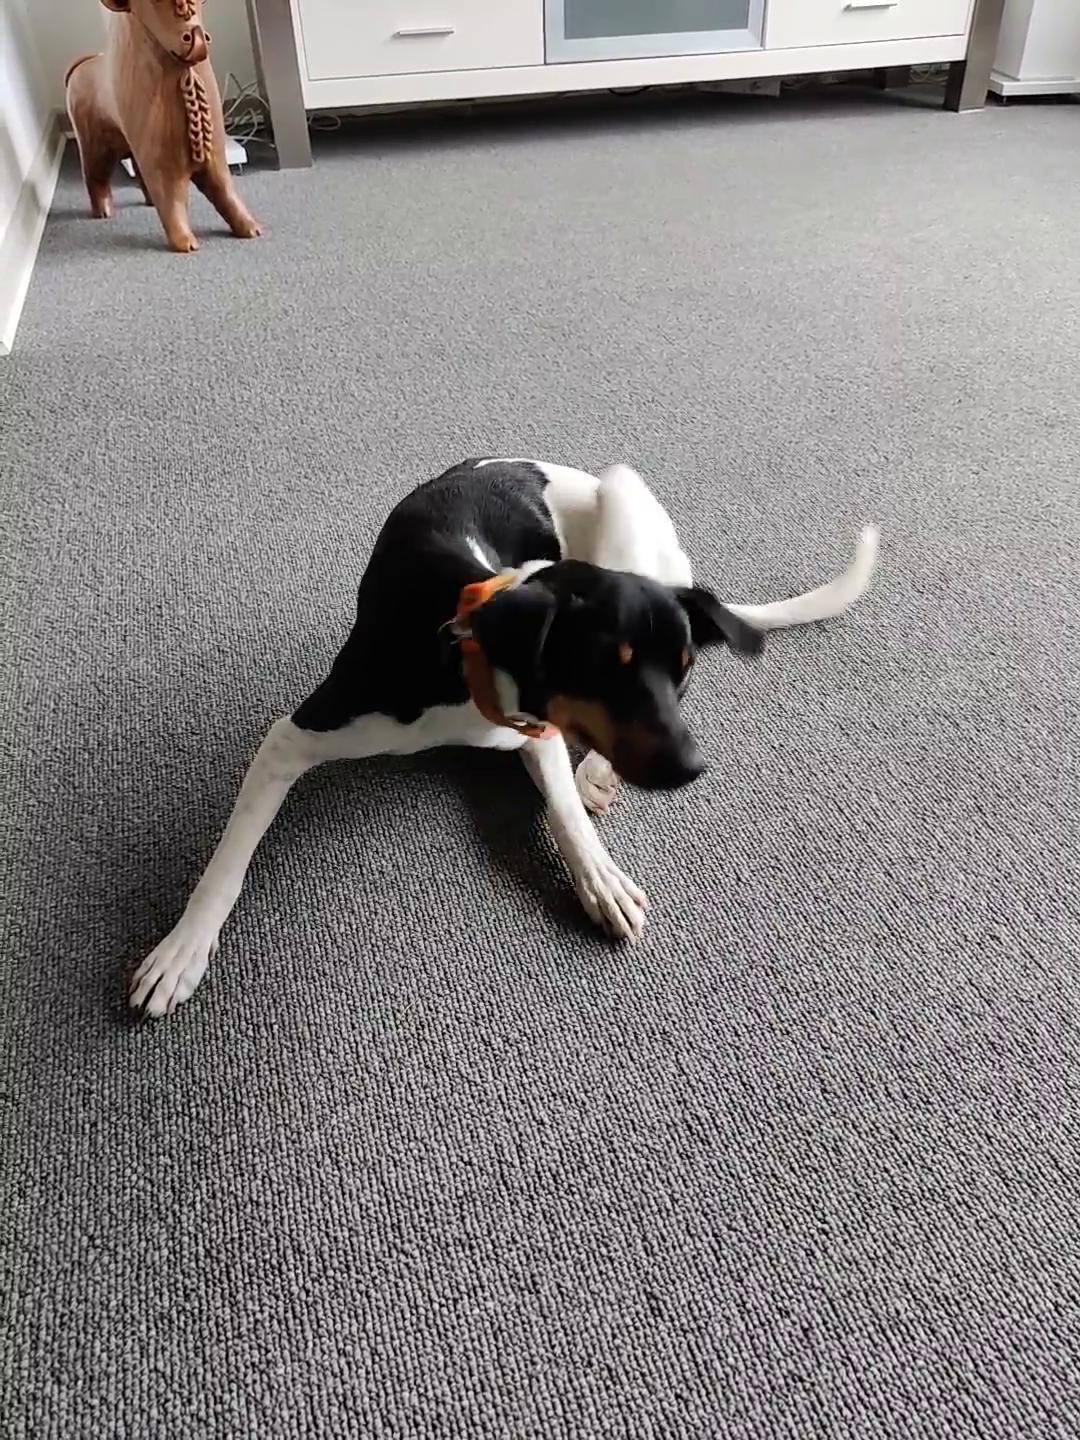Dog: (125, 454, 883, 1023)
